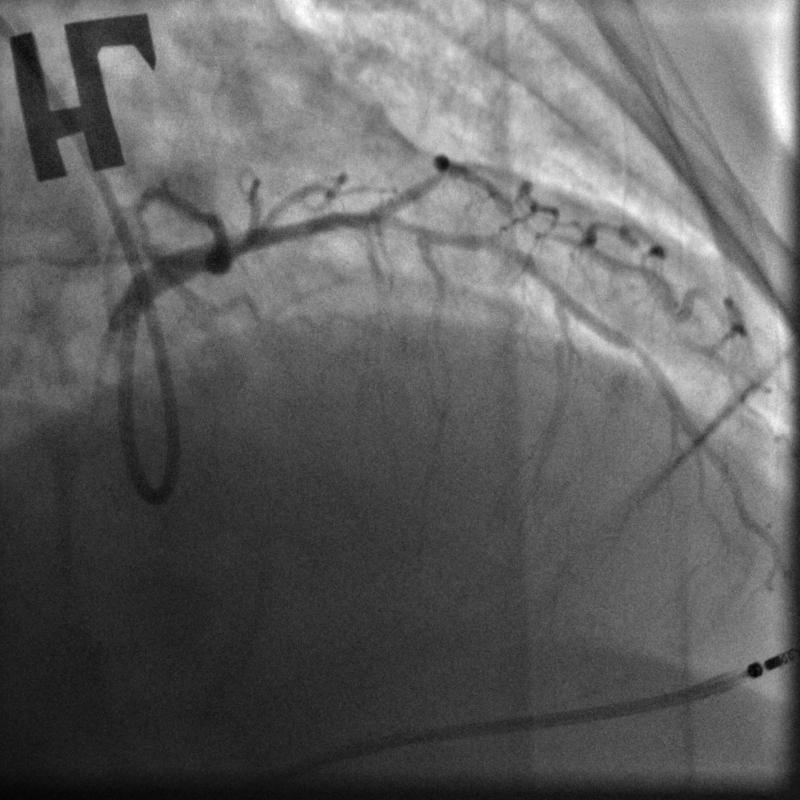Stenosis: (455, 226, 537, 270)
